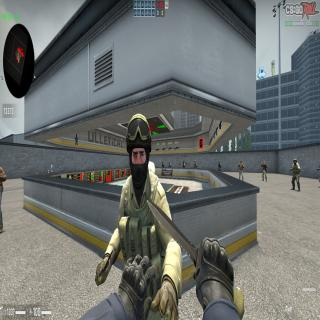CT-Body: (95, 113, 184, 320), (290, 159, 301, 192), (218, 161, 221, 172), (168, 160, 172, 168), (194, 160, 198, 168), (182, 160, 185, 168), (162, 161, 164, 167)
CT-Head: (125, 114, 152, 190), (293, 158, 297, 166), (194, 160, 196, 164), (162, 161, 164, 163), (183, 160, 184, 163), (219, 160, 220, 163), (170, 161, 170, 163)
T-Body: (260, 161, 268, 182), (238, 161, 244, 181)
T-Head: (263, 160, 265, 166), (240, 161, 242, 165)
